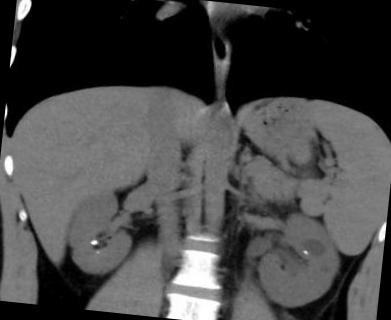Tas_Var: (88, 236, 99, 246), (300, 248, 309, 255), (94, 248, 101, 256)
